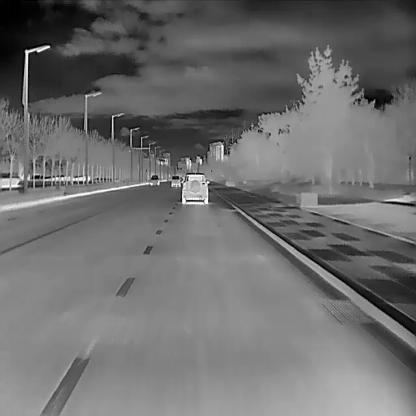car: (182, 171, 210, 204), (170, 175, 180, 187), (150, 174, 160, 185)
